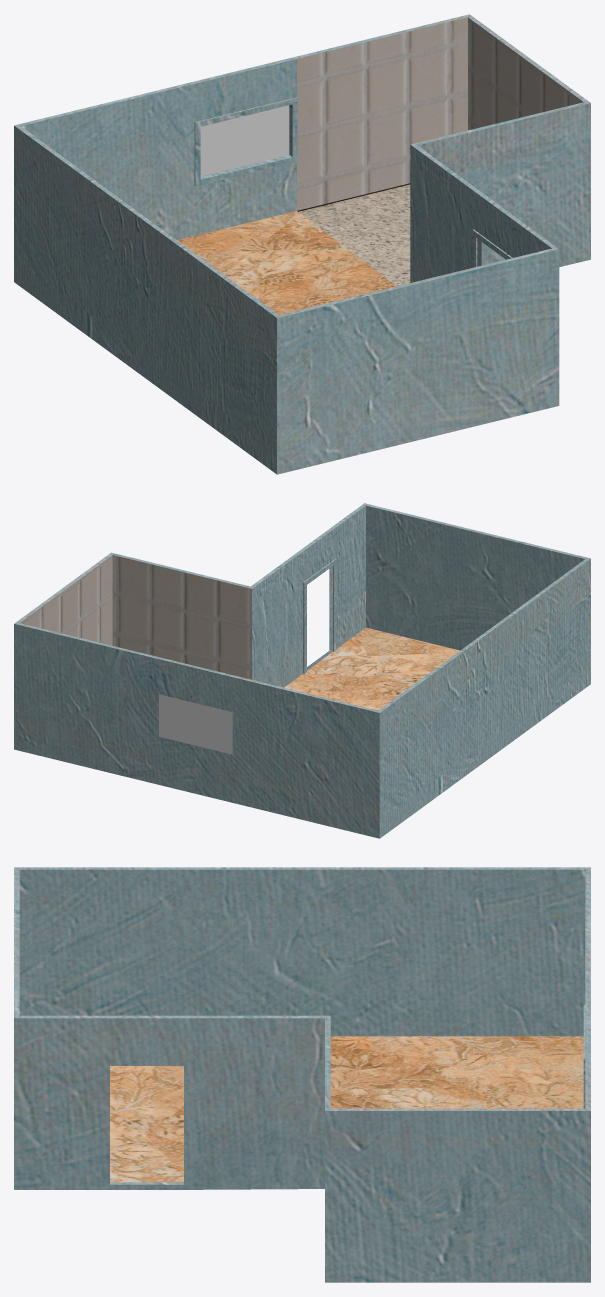
Rendered from Ruum.fbx.
3 views of the same model, one above another, from view 1: azimuth 30°, elevation 25°; view 2: azimuth 150°, elevation 25°; view 3: azimuth 270°, elevation 25° (orthographic). The views are drawn at different scales.
Parts seen in each view (by area): view 1: ruum; view 2: ruum; view 3: ruum.
Boxes of the visible parts, x1,y1,x2,y2 form: ruum: (14,14,590,474); ruum: (14,503,590,838); ruum: (14,867,590,1282).
Bounding box in the file's own units: 8160 × 2680 × 8160.
